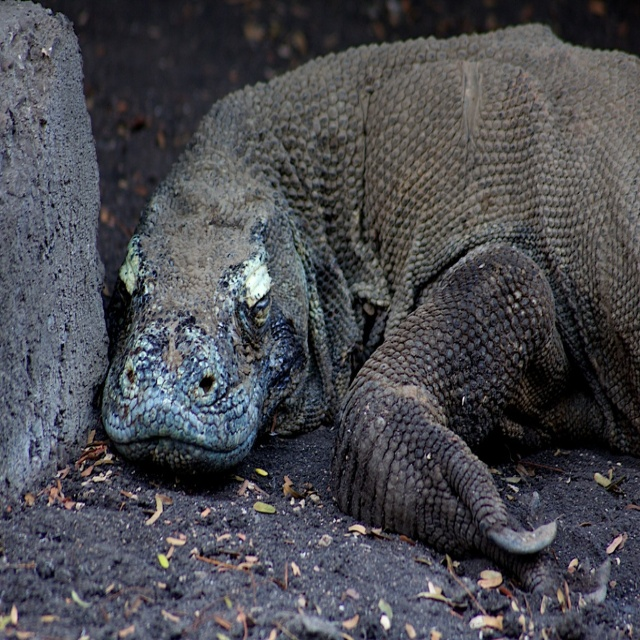Lizard: (88, 41, 640, 587)
